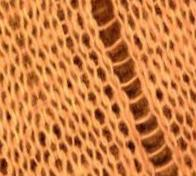slub: (90, 1, 184, 176)
